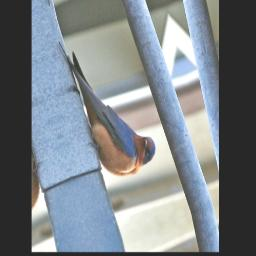Swallow: (58, 16, 161, 189)
